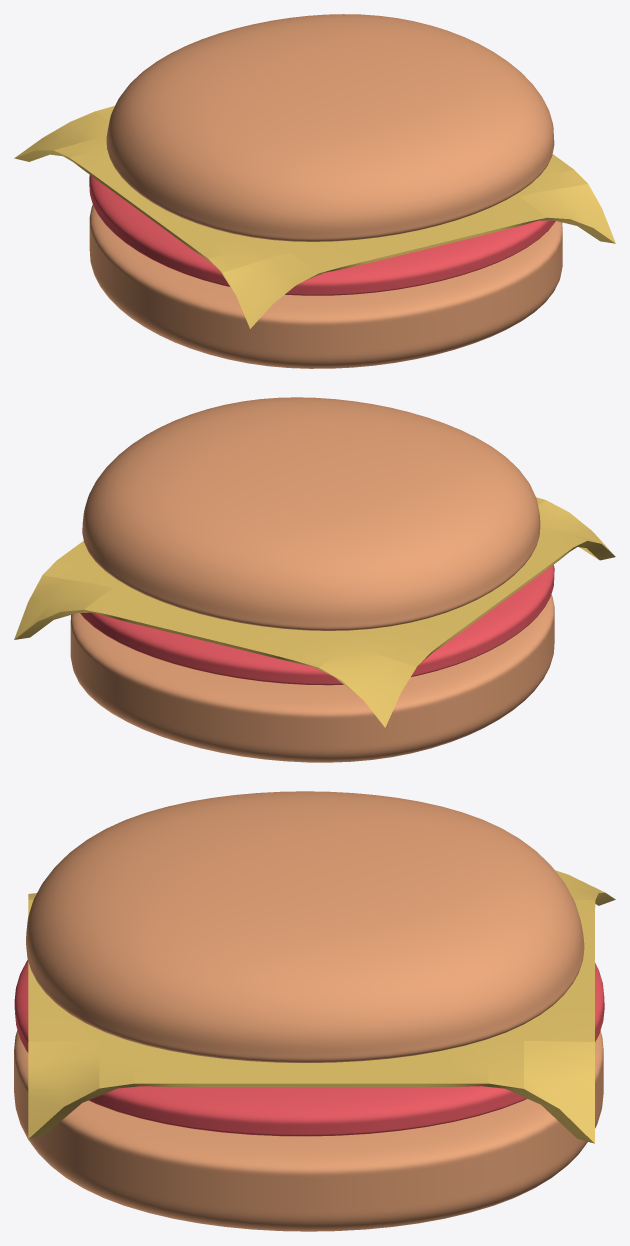
File: hamburger.glb
3 views of the same model, one above another, from view 1: azimuth 30°, elevation 25°; view 2: azimuth 150°, elevation 25°; view 3: azimuth 270°, elevation 25° (orthographic). The views are drawn at different scales.
Visible parts, largest first — view 1: 立方体.002, 立方体, 平面, 立方体.001; view 2: 立方体.002, 立方体, 平面, 立方体.001; view 3: 立方体.002, 立方体, 平面, 立方体.001.
Boxes of the visible parts, bbox=[...] form: 立方体.002: bbox=[106, 14, 554, 241]; 立方体: bbox=[89, 205, 562, 368]; 平面: bbox=[14, 106, 615, 328]; 立方体.001: bbox=[89, 175, 555, 295]; 立方体.002: bbox=[82, 397, 540, 630]; 立方体: bbox=[70, 594, 554, 762]; 平面: bbox=[14, 497, 615, 727]; 立方体.001: bbox=[80, 564, 554, 685]; 立方体.002: bbox=[26, 791, 584, 1062]; 立方体: bbox=[14, 1030, 603, 1231]; 平面: bbox=[28, 870, 615, 1143]; 立方体.001: bbox=[14, 960, 604, 1136].
Size of the model in its own units: 9.28 by 4.85 by 9.48.
